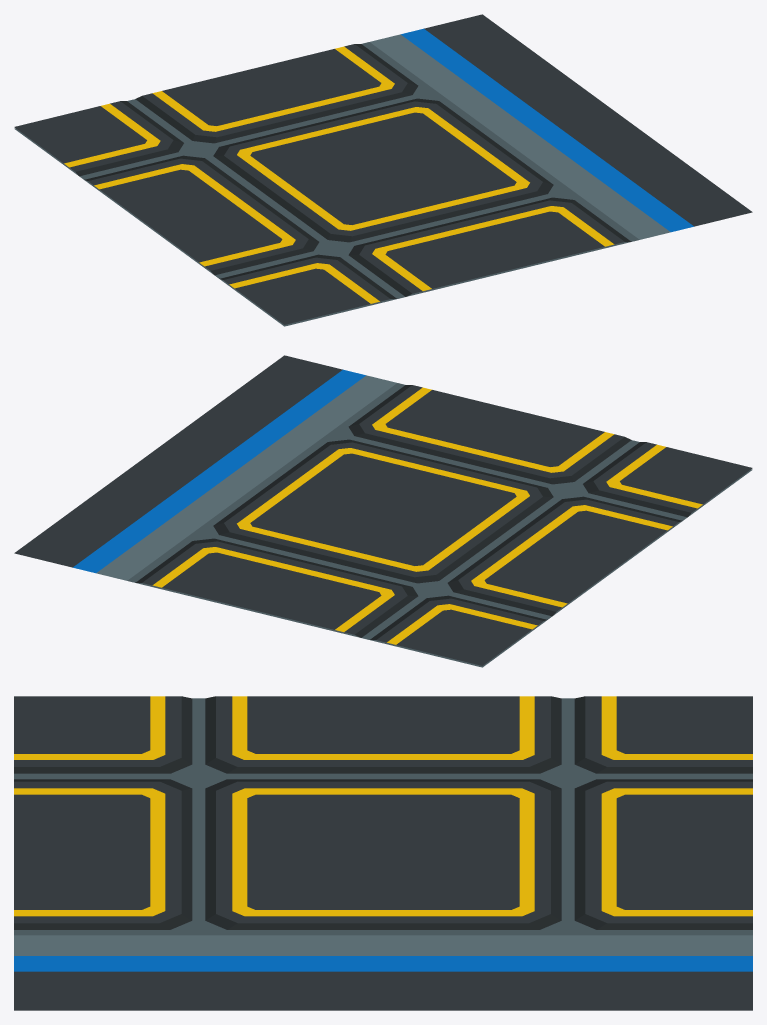
Rendered from Floor_type_C_032.glb.
3 renders of one model, top to bottom at view 1: azimuth 30°, elevation 25°; view 2: azimuth 150°, elevation 25°; view 3: azimuth 270°, elevation 25°, orthographic. The views are drawn at different scales.
Visible parts, largest first — view 1: Floor_type_C_032; view 2: Floor_type_C_032; view 3: Floor_type_C_032.
Part boxes in pixels (left/top/right/bottom): Floor_type_C_032: left=14, top=14, right=752, bottom=326; Floor_type_C_032: left=14, top=355, right=752, bottom=667; Floor_type_C_032: left=14, top=696, right=752, bottom=1010.
Bounding box in the file's own units: 4 × 0.0134 × 4.
2 materials, 2 textured.
